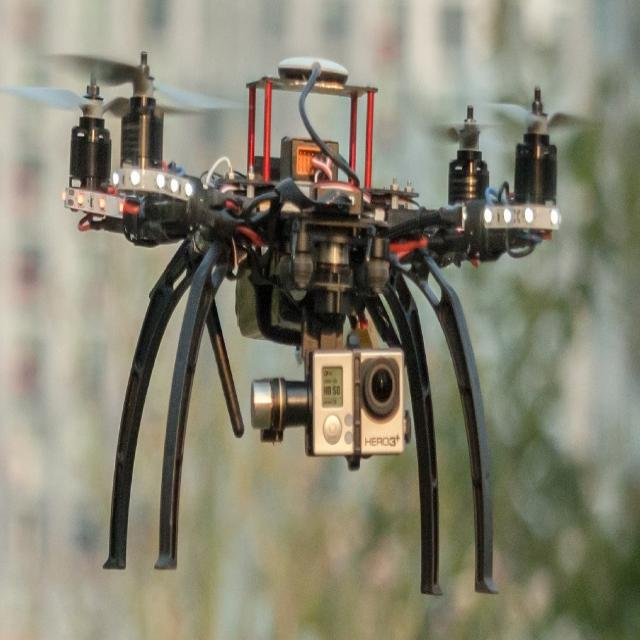drone: (0, 22, 614, 620)
